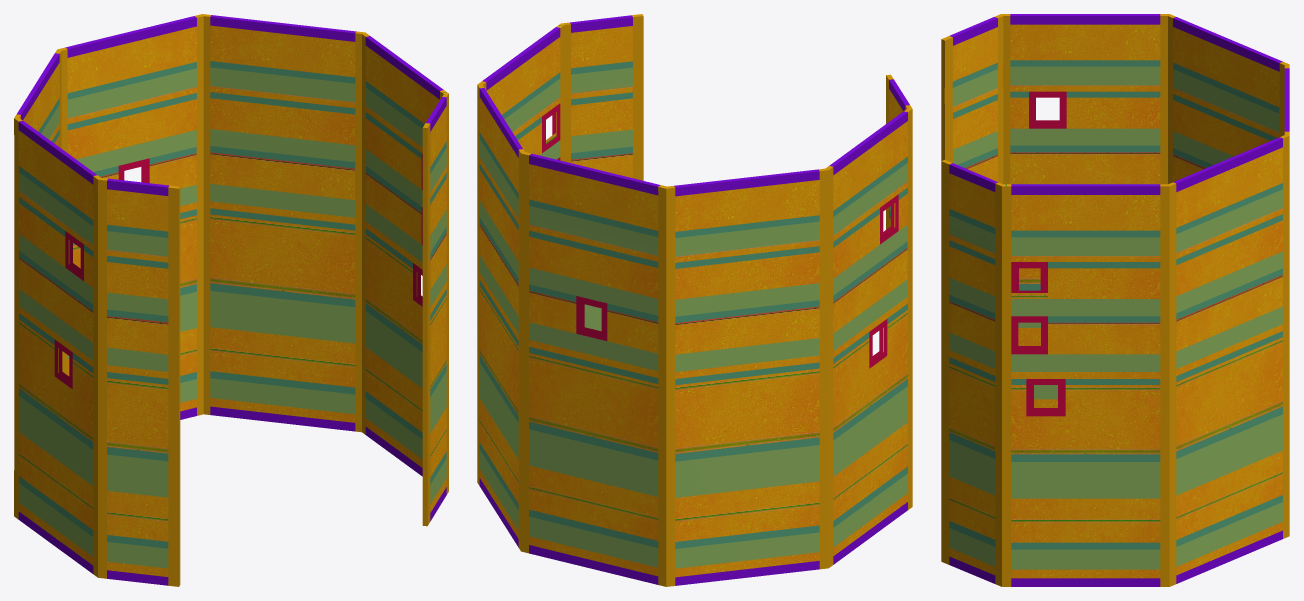
Rendered from FacilityWalls_01_SM_Low.fbx.
3 renders of one model, left to right at view 1: azimuth 30°, elevation 25°; view 2: azimuth 150°, elevation 25°; view 3: azimuth 270°, elevation 25°, orthographic.
Parts seen in each view (by area): view 1: facility_wall_geo; view 2: facility_wall_geo; view 3: facility_wall_geo.
Part boxes in pixels (x1,y1,x2,y2): facility_wall_geo: (14, 14, 448, 586); facility_wall_geo: (477, 14, 912, 586); facility_wall_geo: (941, 14, 1289, 586).
Bounding box in the file's own units: 3624 × 3924 × 3095.
Materials: 6 (1 with a texture image).
